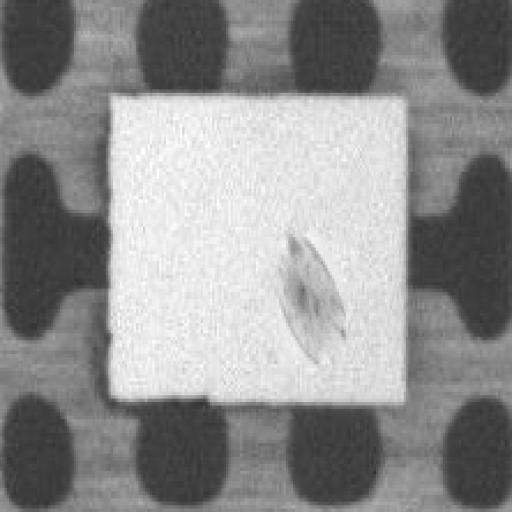DIE_INK: (394, 144, 512, 251)
